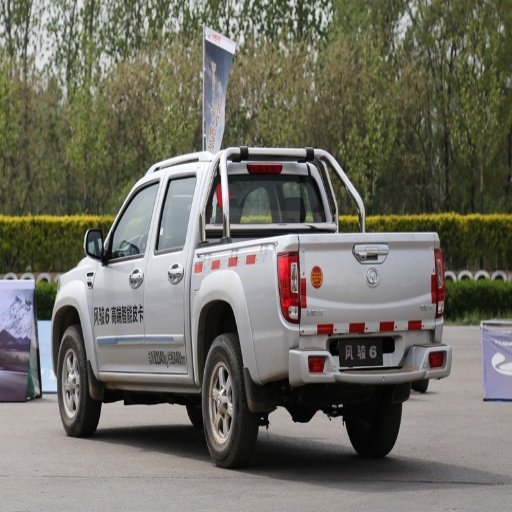back_bumper: (290, 334, 448, 384)
back_glass: (232, 176, 325, 223)
back_left_door: (144, 169, 199, 370)
trunk: (179, 231, 438, 382)
